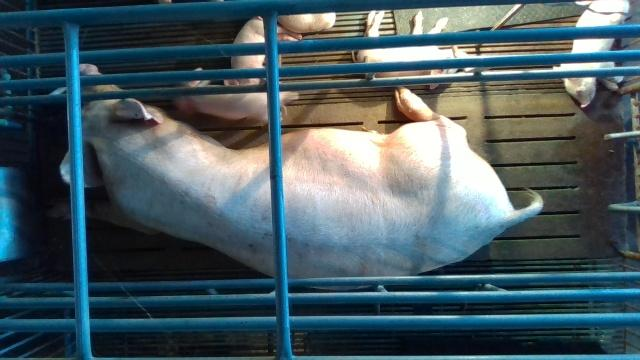piglet: (352, 10, 472, 90), (552, 0, 629, 107), (172, 68, 299, 125), (224, 16, 302, 85)
sow-sit: (42, 64, 545, 292)
